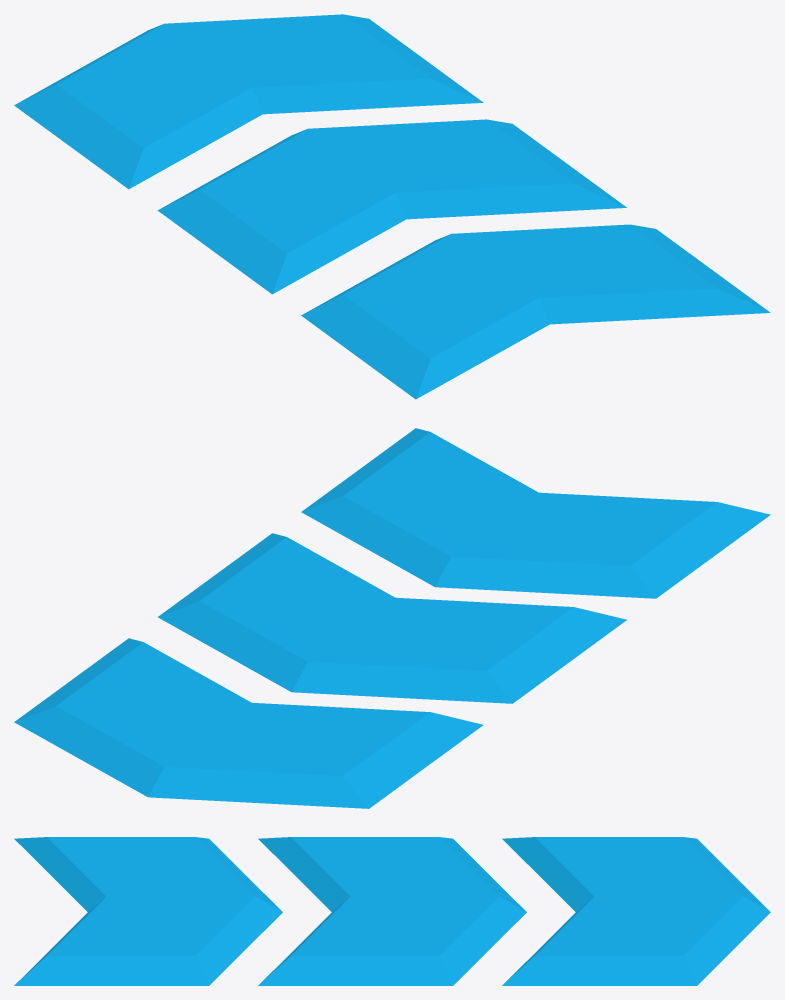
The model's file is arrows-unlit-no-black.glb.
3 renders of one model, top to bottom at view 1: azimuth 30°, elevation 25°; view 2: azimuth 150°, elevation 25°; view 3: azimuth 270°, elevation 25°, orthographic. The views are drawn at different scales.
Parts seen in each view (by area): view 1: Cube; view 2: Cube; view 3: Cube.
Part boxes in pixels (box(x1,y1,x2,y2)): Cube: box(14, 14, 770, 399); Cube: box(14, 428, 770, 808); Cube: box(14, 837, 770, 985).
Bounding box in the file's own units: 2 × 0.1 × 4.34.
